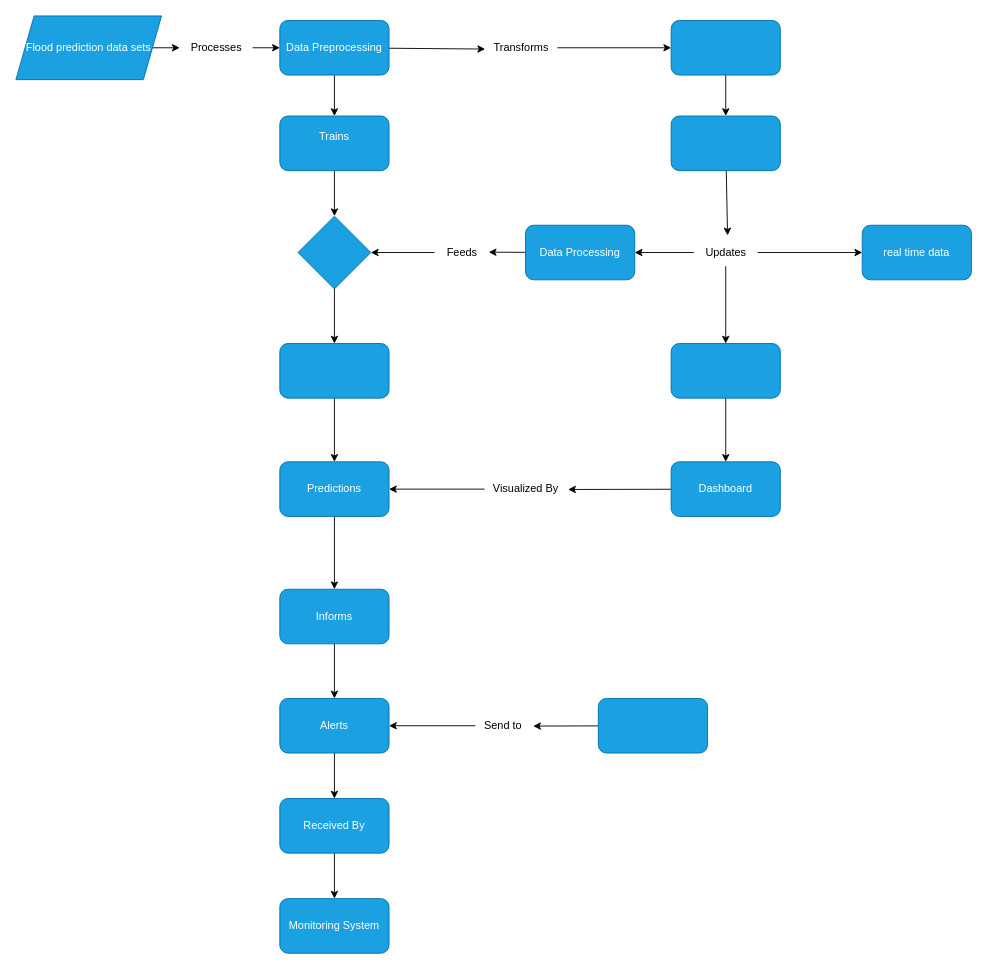
Image size: 987x969. Some labels were removed from this diagram. Each missing label, with the centre of its shape:
Data Features: the point at 725,47
derived form: the point at 725,143
Generates: the point at 334,370
Model Selection: the point at 334,252
Monitored By: the point at 725,370
stakeholders: the point at 652,725
